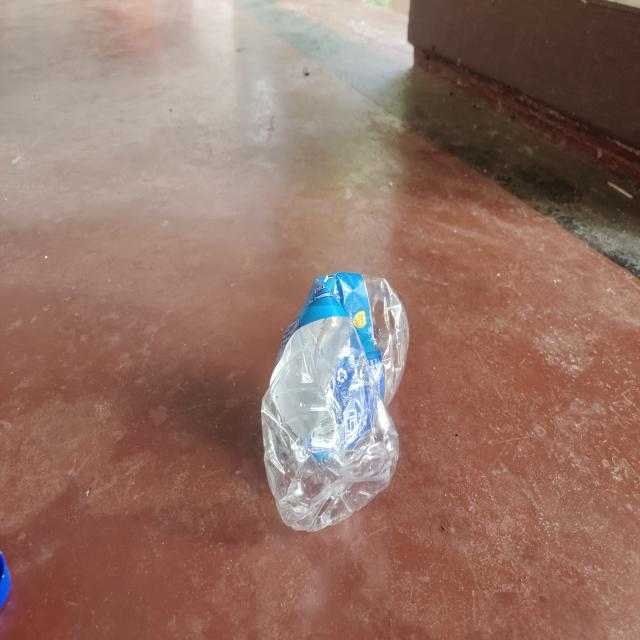plastic: (259, 268, 412, 537)
